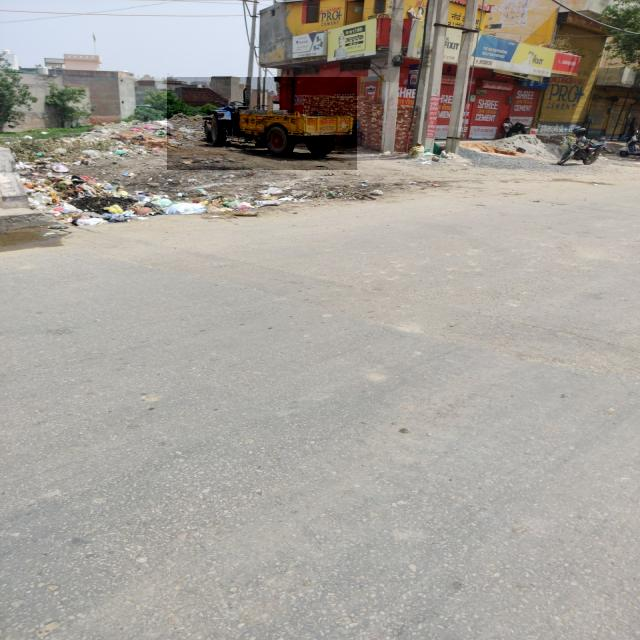Tractot: (168, 77, 358, 170)
